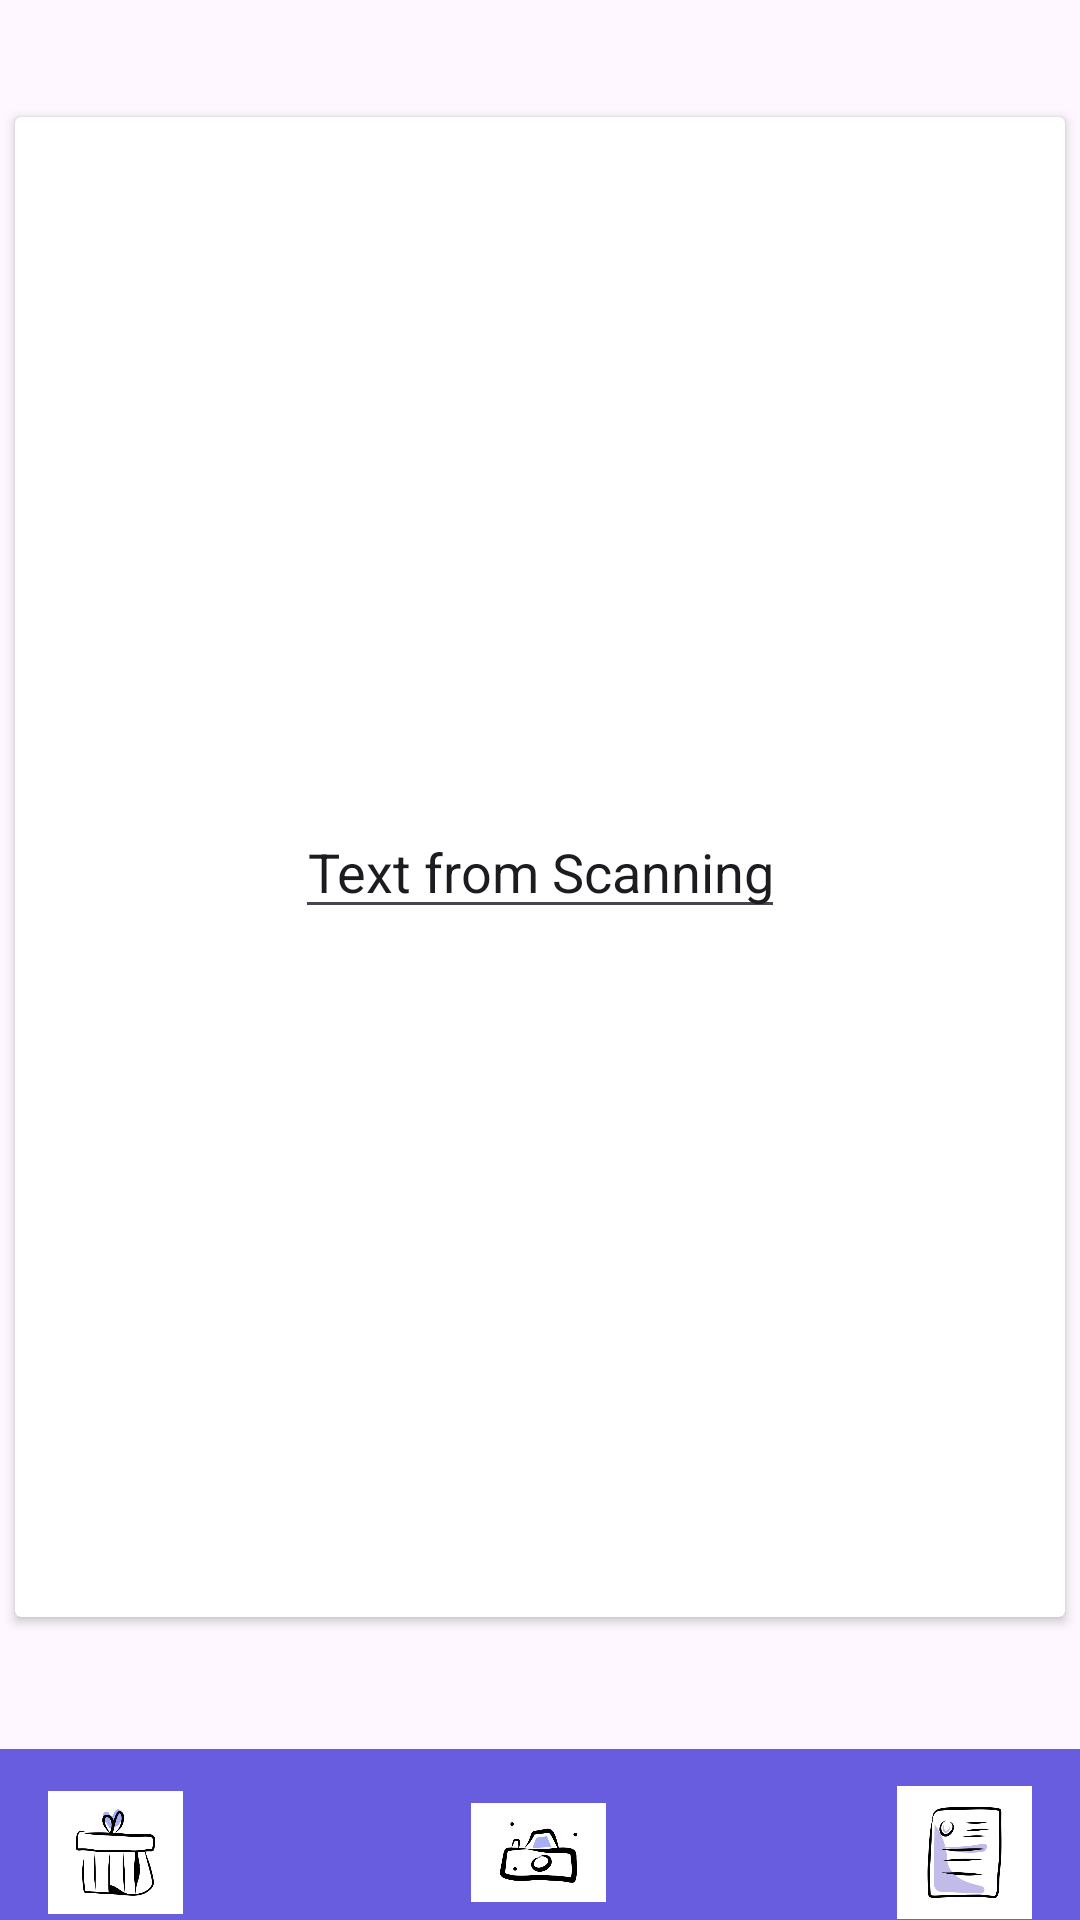

Where to tap for icons on this 1080w x 1920h app screen, as (x=x, y=y):
cameraicon: (x=538, y=1852)
